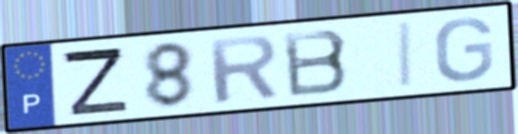8: (139, 39, 198, 111)
B: (279, 27, 352, 100)
G: (432, 15, 496, 84)
I: (397, 19, 417, 91)
R: (204, 32, 282, 106)
Z: (57, 45, 132, 118)
